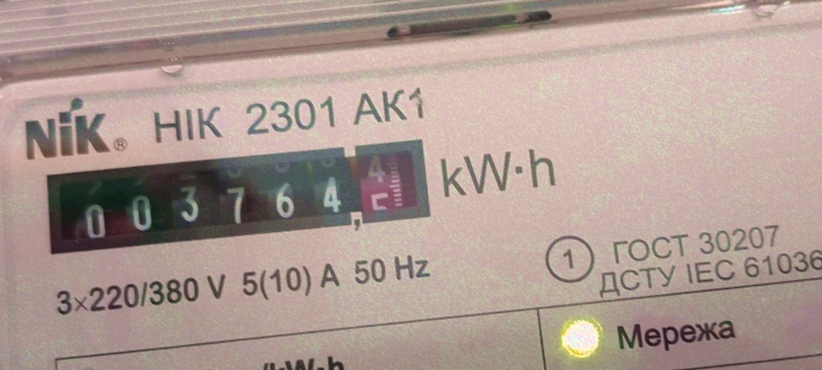0: (80, 200, 107, 240), (127, 192, 153, 233)
3: (174, 183, 201, 224)
4: (319, 174, 342, 215), (363, 151, 387, 185)
5: (367, 190, 391, 213)
6: (271, 180, 295, 220)
7: (223, 182, 250, 226)
screen: (26, 120, 446, 270)
